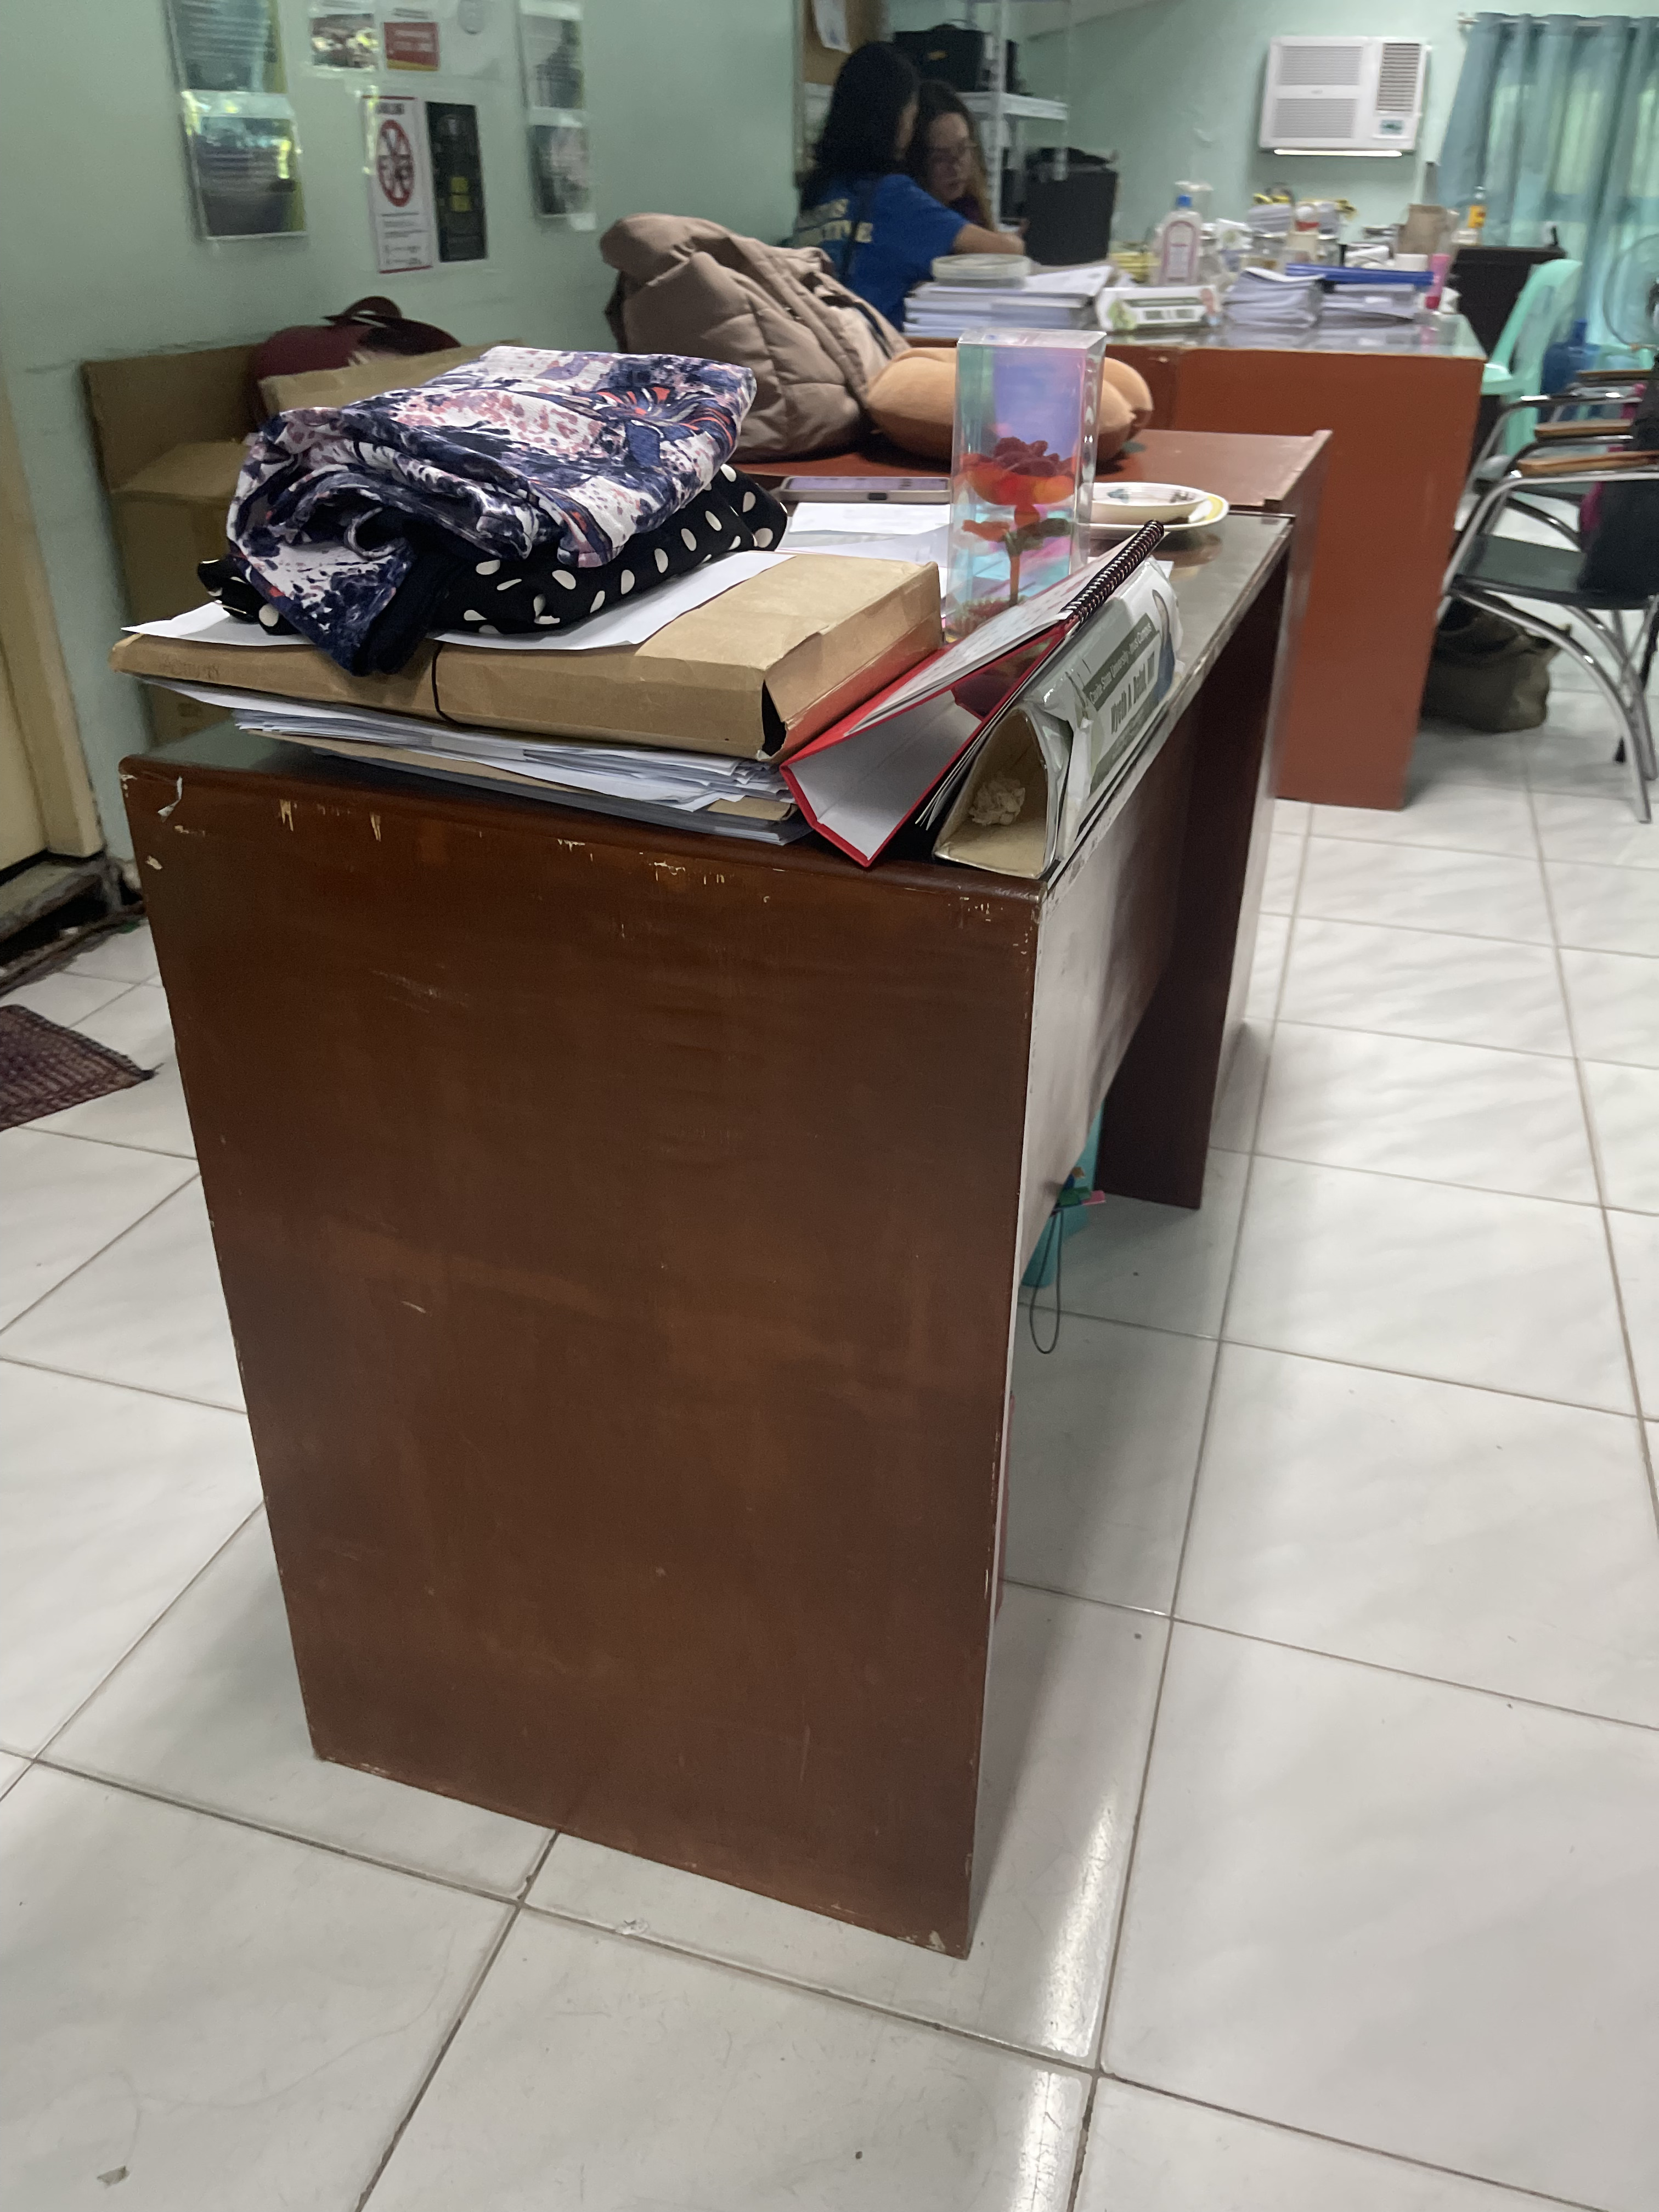table2: (101, 603, 1283, 1991)
